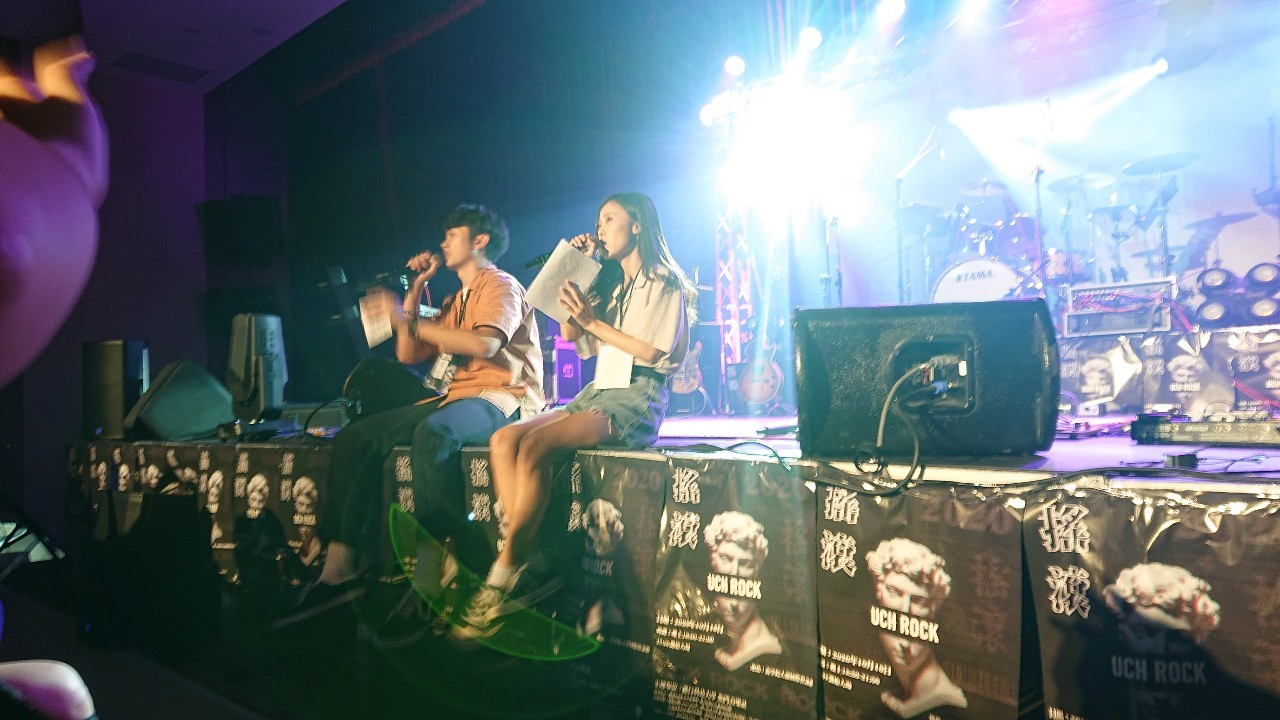people: (544, 193, 702, 462), (411, 209, 538, 440), (335, 260, 428, 462)
